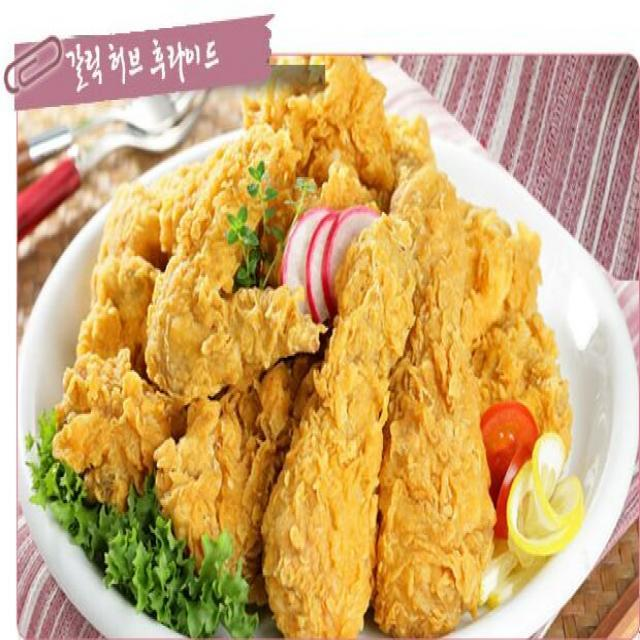Frango: (47, 62, 581, 630)
